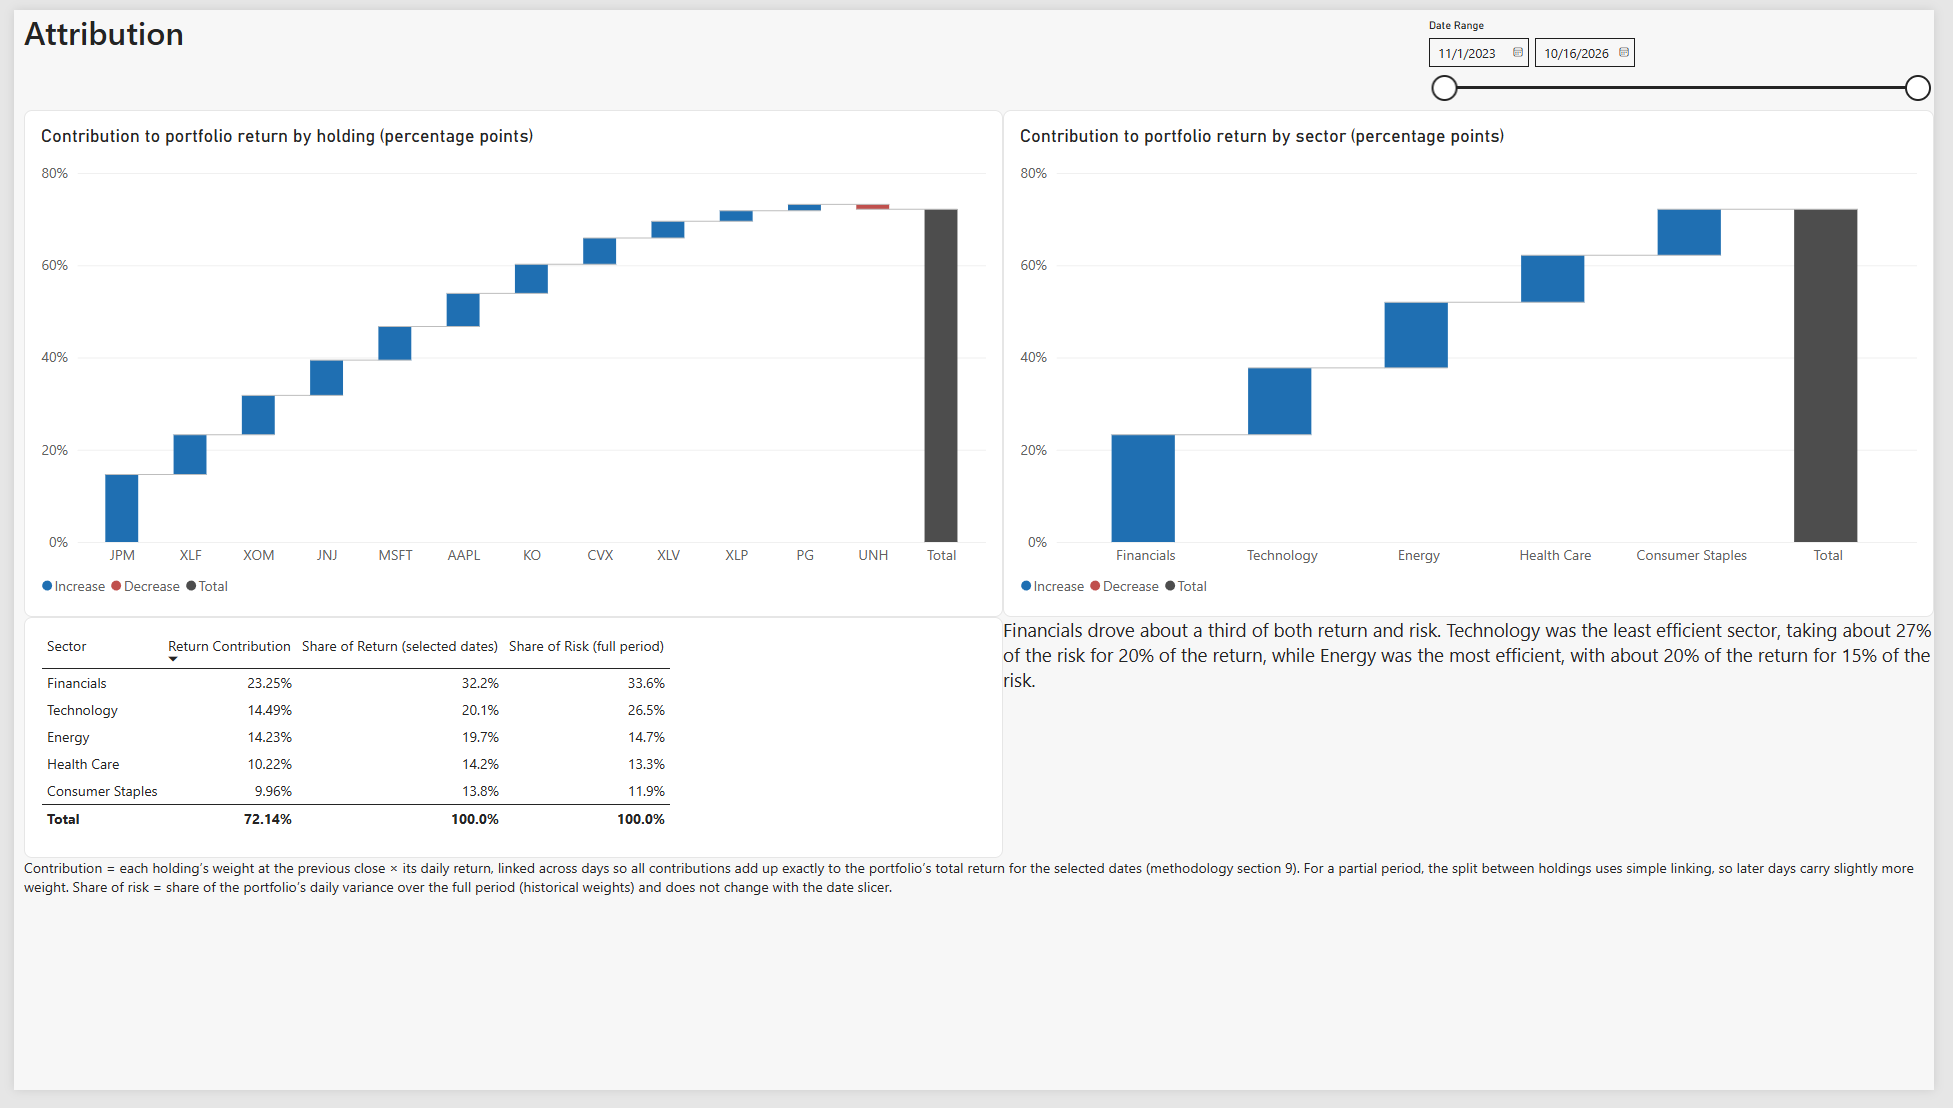

What the dashboard file says about the page in this screenshot:
{"tool":"powerbi","page":{"name":"Attribution","canvas":[1920,1080],"ordinal":3},"visuals":[{"type":"textbox","box":[10.4,0,179.4,46.7],"z":0},{"type":"waterfallChart","title":"Contribution to portfolio return by holding (percentage points)","fields":{"Category":["dim_security.ticker"],"Y":["_Measures.Return Contribution"]},"box":[10,100,979,507],"z":1000},{"type":"waterfallChart","title":"Contribution to portfolio return by sector (percentage points)","fields":{"Category":["dim_security.sector"],"Y":["_Measures.Return Contribution"]},"box":[989,100,931,507],"z":2000},{"type":"tableEx","fields":{"Values":["dim_security.sector","_Measures.Return Contribution","_Measures.Share of Return","_Measures.Risk Share (Historical)"]},"box":[10,607,979,241],"z":3000},{"type":"textbox","box":[10,848,1910,42],"z":4000},{"type":"textbox","box":[989,607,931,82],"z":5000},{"type":"slicer","fields":{"Values":["dim_date.date_key"]},"box":[1406.6,8.8,513.4,97.2],"z":6000}]}

Visuals, with their boxes in screenshot pixels (x1, y1, x2, y2), scaled from the page's 1920x1080 canvas onto the 1953x1108 screenshot:
textbox: [x1=11, y1=0, x2=193, y2=48]
"Contribution to portfolio return by holding (percentage points)" waterfallChart: [x1=10, y1=103, x2=1006, y2=623]
"Contribution to portfolio return by sector (percentage points)" waterfallChart: [x1=1006, y1=103, x2=1952, y2=623]
tableEx - dim_security.sector x _Measures.Return Contribution: [x1=10, y1=623, x2=1006, y2=870]
textbox: [x1=10, y1=870, x2=1952, y2=913]
textbox: [x1=1006, y1=623, x2=1952, y2=707]
slicer - dim_date.date_key: [x1=1431, y1=9, x2=1952, y2=109]
